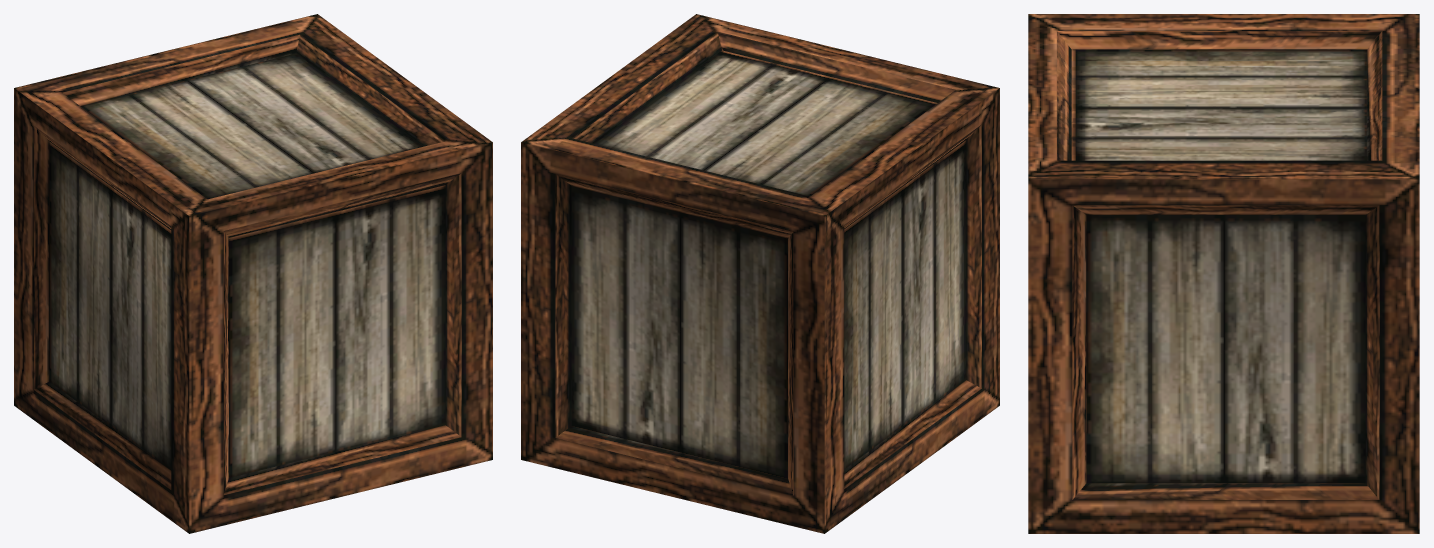
File: INST_SWORDLIGHT_CRATES.fbx
The picture shows the model from 3 angles, left to right: view 1: azimuth 30°, elevation 25°; view 2: azimuth 150°, elevation 25°; view 3: azimuth 270°, elevation 25°; orthographic projection. The views are drawn at different scales.
Parts seen in each view (by area): view 1: INST_SWORDLIGHT_CRATES; view 2: INST_SWORDLIGHT_CRATES; view 3: INST_SWORDLIGHT_CRATES.
Boxes of the visible parts, left/top/right/bottom form: INST_SWORDLIGHT_CRATES: left=14, top=14, right=492, bottom=533; INST_SWORDLIGHT_CRATES: left=521, top=14, right=999, bottom=533; INST_SWORDLIGHT_CRATES: left=1028, top=14, right=1419, bottom=533.
Size of the model in its own units: 7095 by 7095 by 7095.
Materials: 1 (1 with a texture image).
